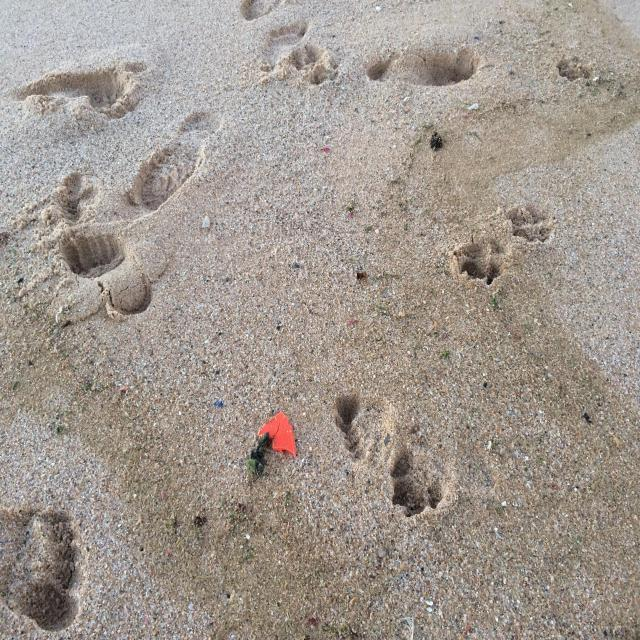Other plastic bottle: (258, 412, 296, 457), (246, 460, 256, 475)
